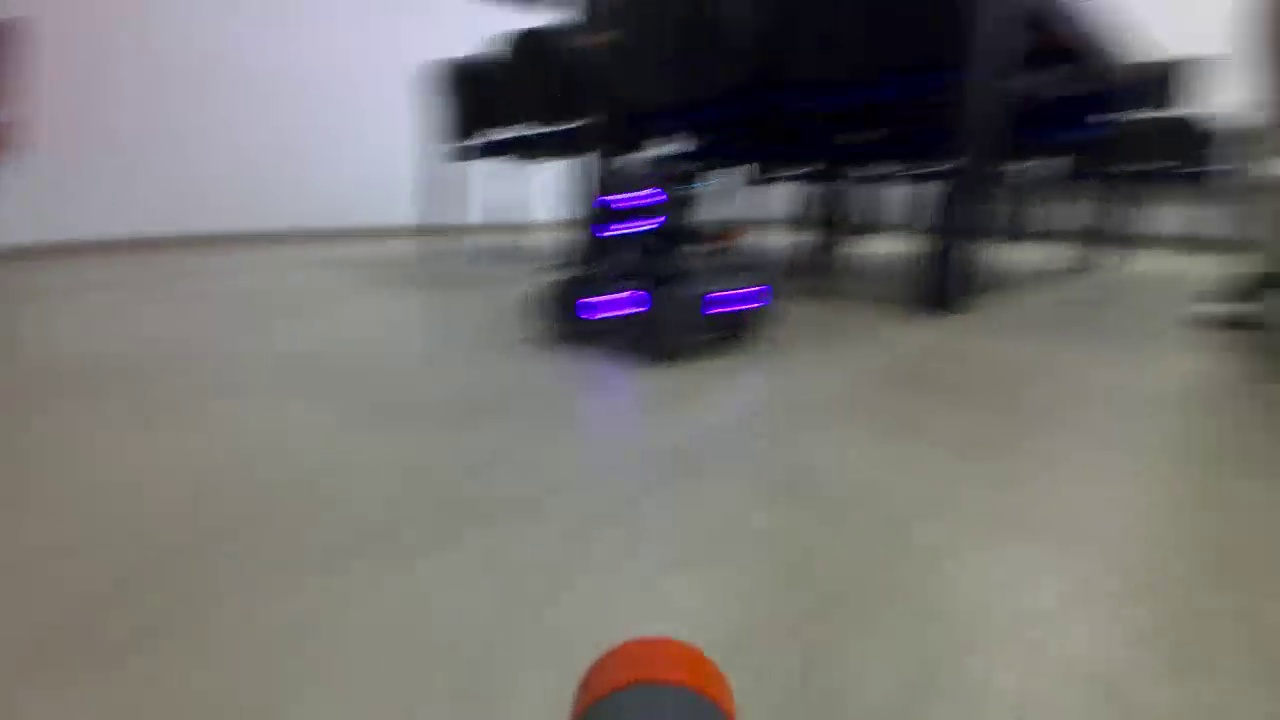robot: (545, 180, 775, 358)
